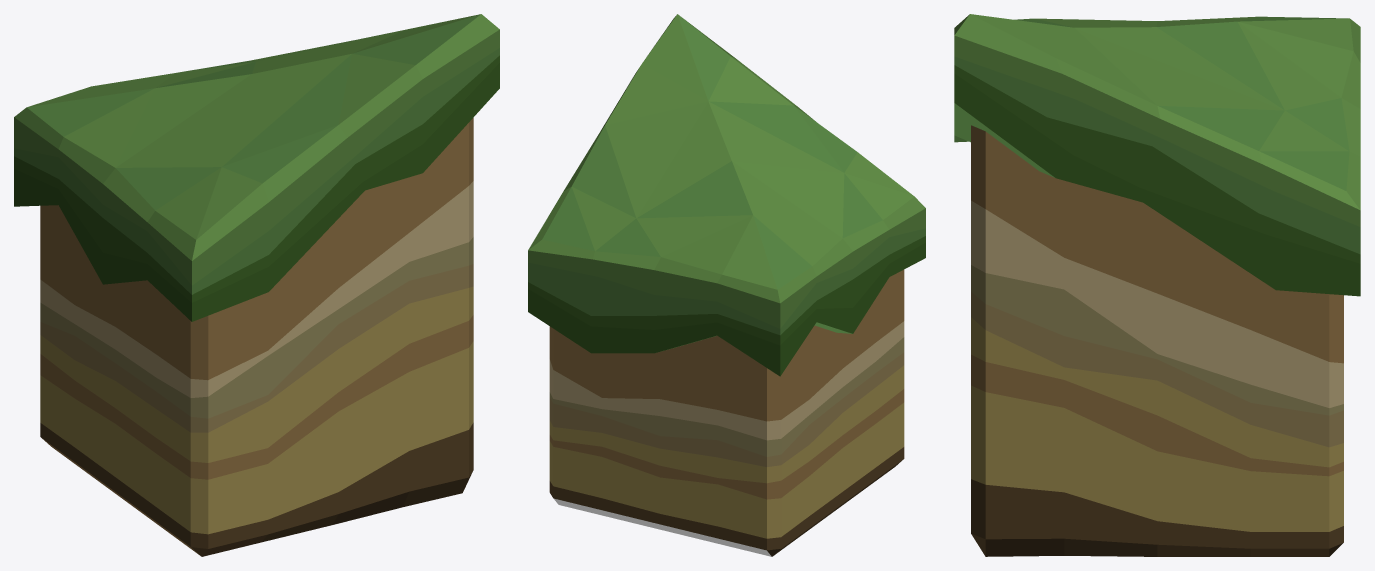
Rendered from Runestrife-Land-Grass-Corner.fbx.
3 views of the same model, side by side, from view 1: azimuth 30°, elevation 25°; view 2: azimuth 150°, elevation 25°; view 3: azimuth 270°, elevation 25° (orthographic). The views are drawn at different scales.
Parts seen in each view (by area): view 1: Cube.001; view 2: Cube.001; view 3: Cube.001.
Boxes of the visible parts, x1=… form: Cube.001: x1=14, y1=14, x2=499, y2=556; Cube.001: x1=528, y1=14, x2=925, y2=556; Cube.001: x1=954, y1=14, x2=1360, y2=556.
Size of the model in its own units: 300 by 448 by 300.
